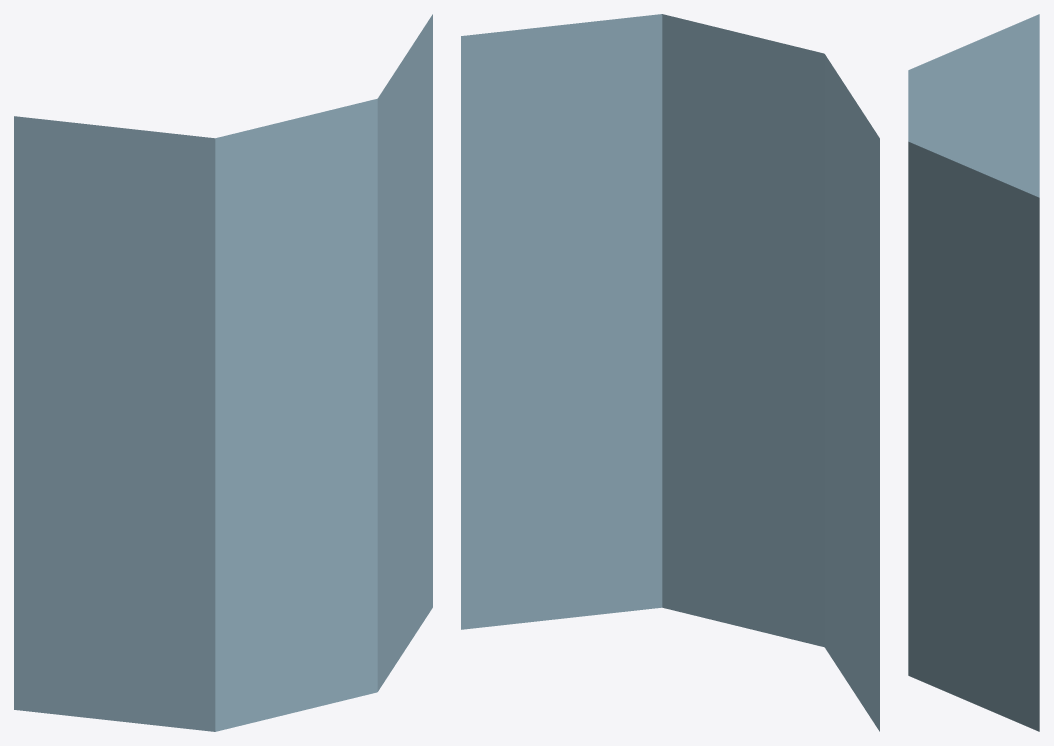
The model's file is FairyTale185.gltf.
The picture shows the model from 3 angles, left to right: view 1: azimuth 30°, elevation 25°; view 2: azimuth 150°, elevation 25°; view 3: azimuth 270°, elevation 25°; orthographic projection. The views are drawn at different scales.
Parts seen in each view (by area): view 1: 网格.280_2; view 2: 网格.280_2; view 3: 网格.280_2.
Part boxes in pixels (x1,y1,x2,y2): 网格.280_2: (14, 14, 432, 731); 网格.280_2: (461, 14, 879, 731); 网格.280_2: (908, 14, 1039, 731).
Bounding box in the file's own units: 1 × 1.36 × 0.3029.
